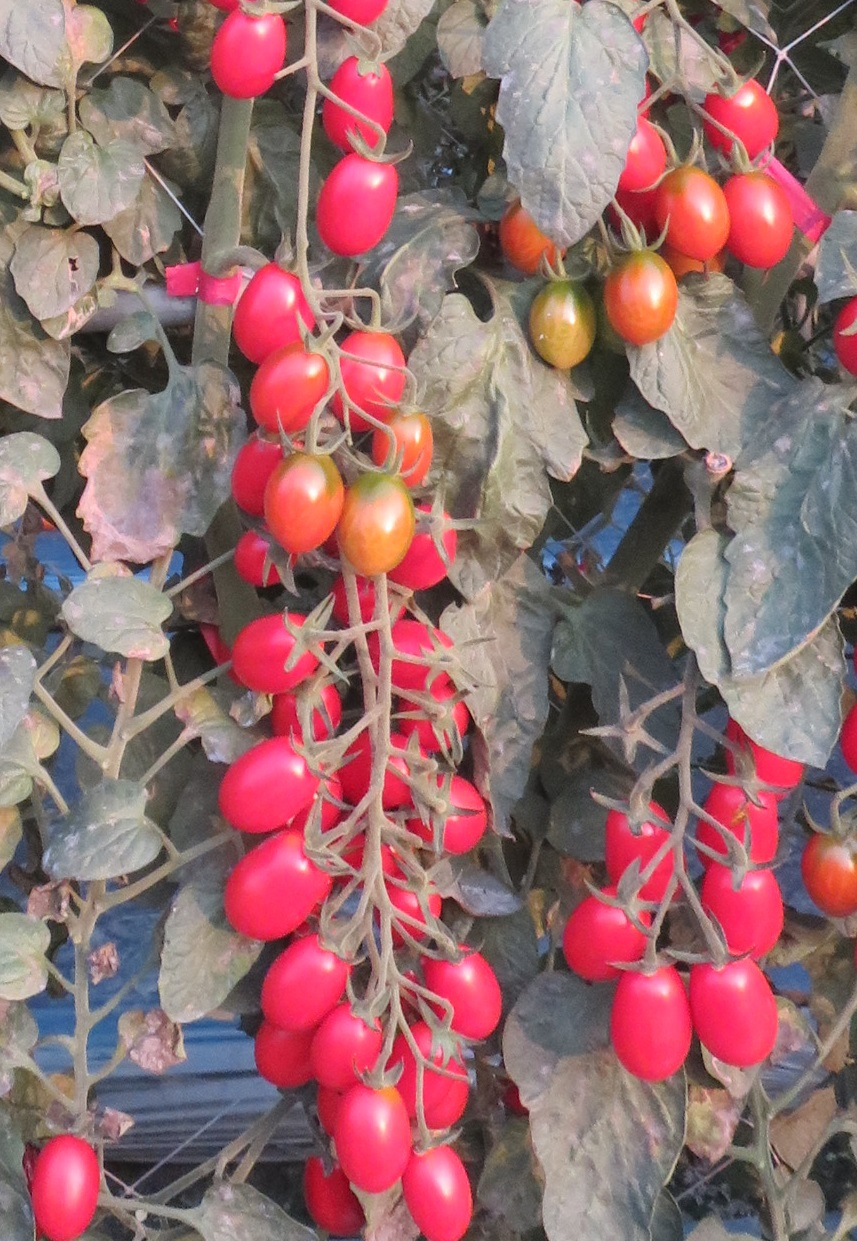green: (533, 286, 601, 374)
orange: (256, 456, 337, 560), (339, 467, 416, 574), (338, 332, 413, 440), (729, 170, 796, 286), (603, 256, 674, 347), (790, 827, 857, 918), (663, 169, 726, 265)
red: (216, 829, 340, 938), (212, 741, 342, 834), (689, 954, 785, 1073), (611, 960, 690, 1090), (334, 1077, 413, 1197), (256, 936, 355, 1031), (231, 261, 322, 364), (206, 5, 293, 108), (562, 884, 656, 978), (235, 346, 335, 434), (322, 152, 402, 261), (701, 867, 794, 955), (38, 1134, 112, 1241), (230, 610, 325, 693), (421, 943, 499, 1040), (701, 781, 792, 864), (603, 806, 675, 908), (328, 64, 406, 154), (303, 1013, 394, 1088), (402, 1147, 474, 1241), (710, 70, 785, 156)
